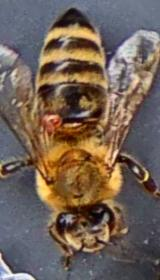varroa_mite: (33, 102, 66, 136)
